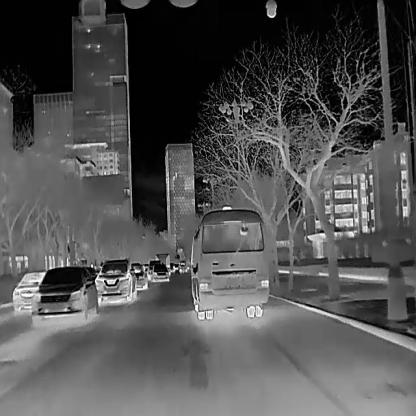bus: (183, 204, 269, 319), (154, 252, 170, 262)
car: (30, 266, 96, 324), (93, 258, 135, 302), (11, 270, 44, 310), (133, 262, 148, 290), (149, 262, 169, 282), (178, 261, 188, 272)
